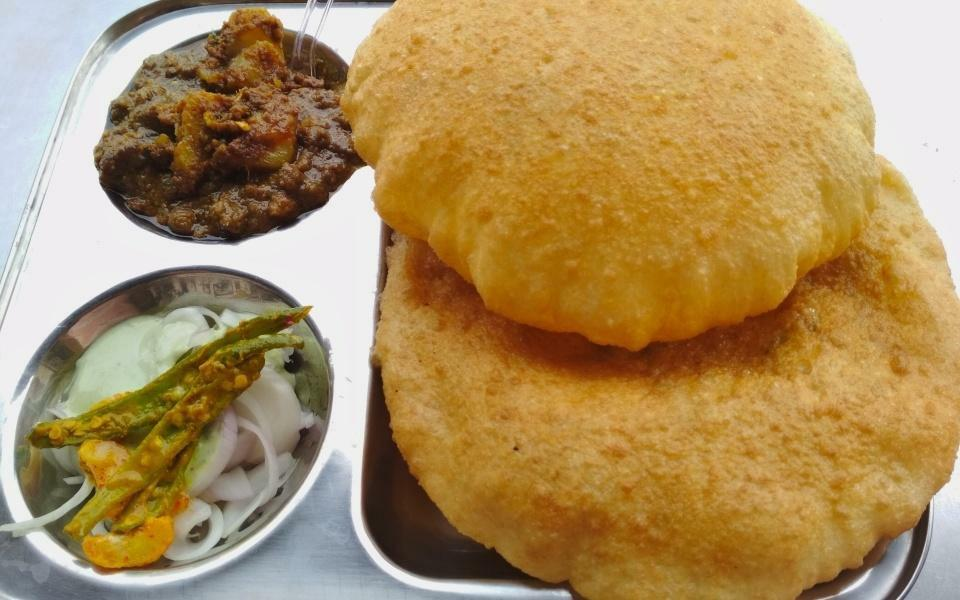Bhatura: (367, 148, 960, 600), (341, 0, 881, 350)
Chole: (96, 8, 362, 241)
